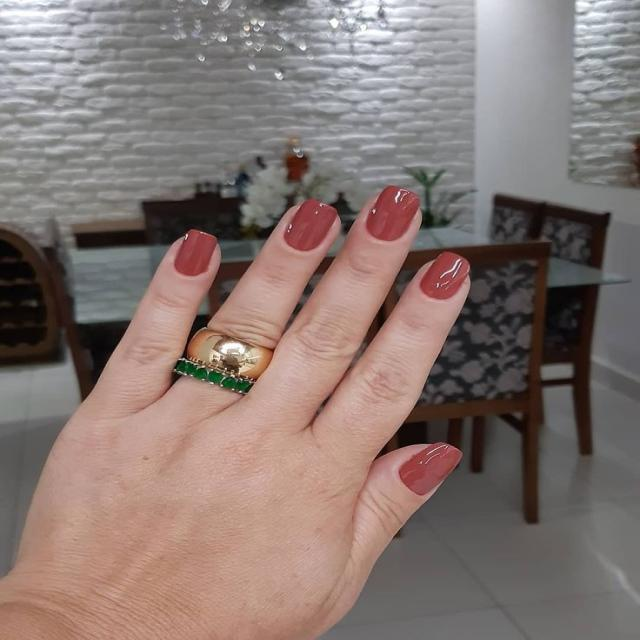Fingernail: (400, 444, 460, 495), (285, 199, 336, 251), (368, 188, 418, 241), (421, 254, 467, 299), (175, 231, 215, 276)
